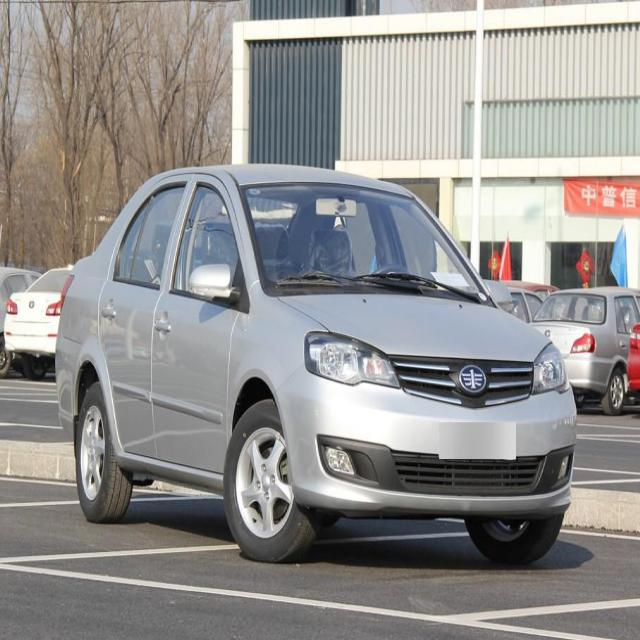back_right_side_light: (59, 272, 76, 317)
door: (99, 182, 189, 455)
front_bumper: (272, 355, 579, 517)
front_glass: (236, 183, 493, 307)
front_left_side_light: (529, 339, 571, 399)
front_left_side_mirror: (484, 279, 513, 310)
front_right_side_door: (150, 168, 243, 482)
front_right_side_light: (303, 326, 403, 393)
front_right_side_mirror: (188, 260, 238, 304)
rear_bumper: (53, 322, 82, 447)
wheel: (224, 399, 318, 561), (75, 382, 134, 524), (464, 514, 563, 568)
